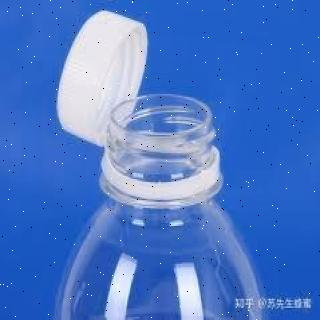Plastic-bottle: (59, 10, 266, 320)
